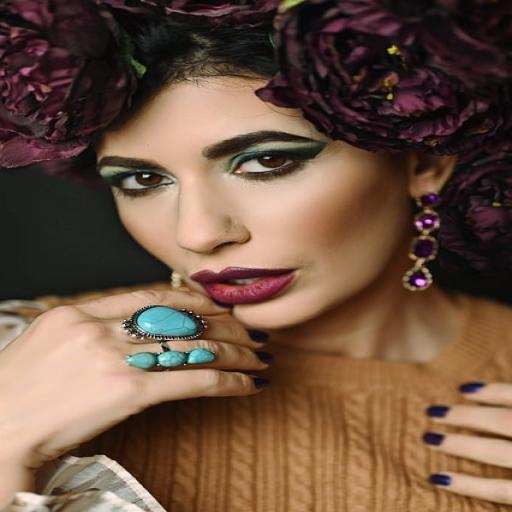lipstick: (192, 268, 294, 304)
